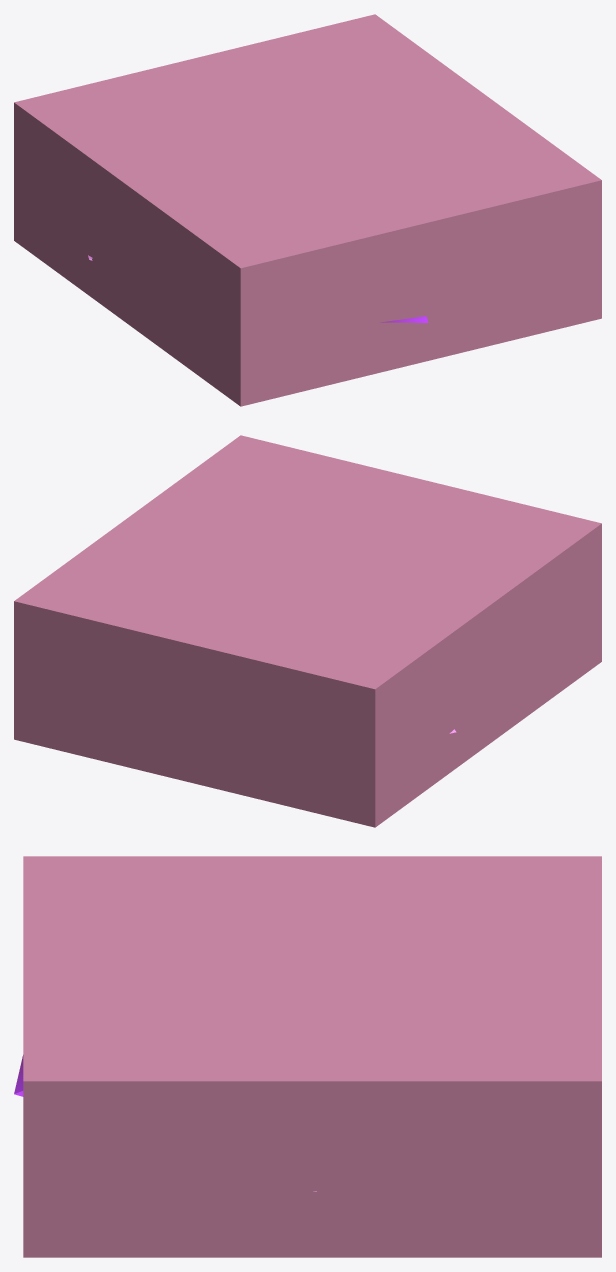
File: lush_ferns_02_b.dae
3 renders of one model, top to bottom at view 1: azimuth 30°, elevation 25°; view 2: azimuth 150°, elevation 25°; view 3: azimuth 270°, elevation 25°, orthographic. The views are drawn at different scales.
Parts seen in each view (by area): view 1: Untitled; view 2: Untitled; view 3: Untitled.
Part boxes in pixels (x1,y1,x2,y2): Untitled: (14, 14, 601, 406); Untitled: (14, 435, 601, 827); Untitled: (23, 856, 601, 1257).
Bounding box in the file's own units: 1.72 × 1.88 × 0.6441.
